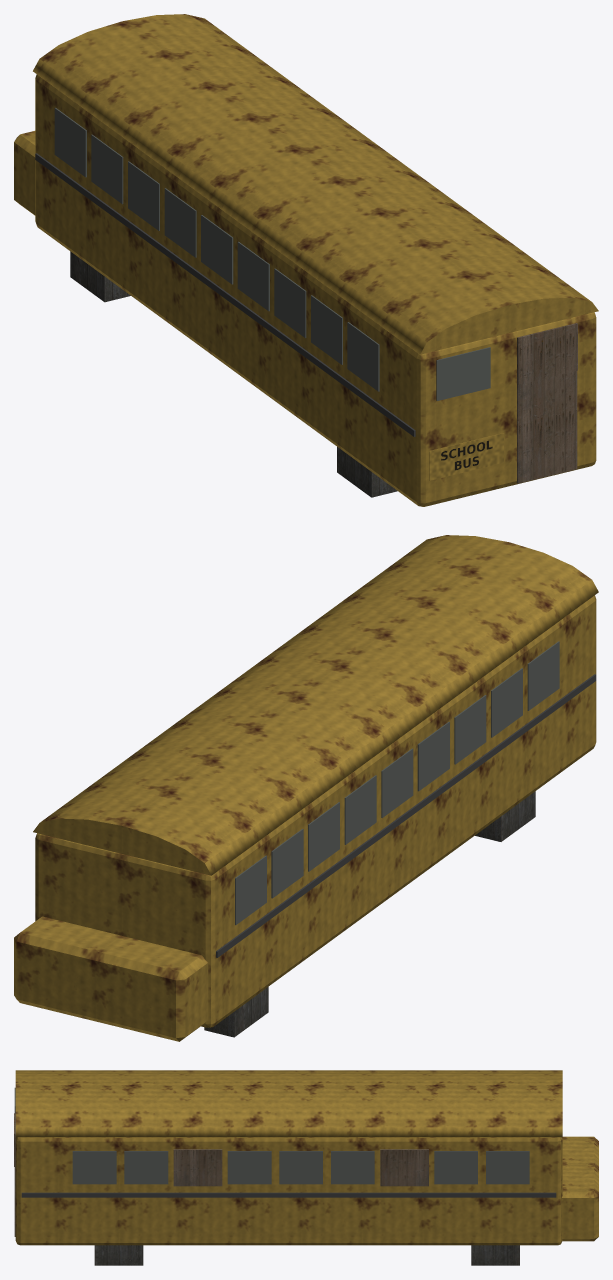
The model's file is school_bus.glb.
3 renders of one model, top to bottom at view 1: azimuth 30°, elevation 25°; view 2: azimuth 150°, elevation 25°; view 3: azimuth 270°, elevation 25°, orthographic. The views are drawn at different scales.
Parts seen in each view (by area): view 1: school_bus; view 2: school_bus; view 3: school_bus.
Boxes of the visible parts, left/top/right/bottom form: school_bus: left=14, top=14, right=598, bottom=506; school_bus: left=14, top=535, right=598, bottom=1041; school_bus: left=14, top=1070, right=598, bottom=1265.
Bounding box in the file's own units: 2.45 × 2.74 × 9.63.
6 materials, 4 textured.
